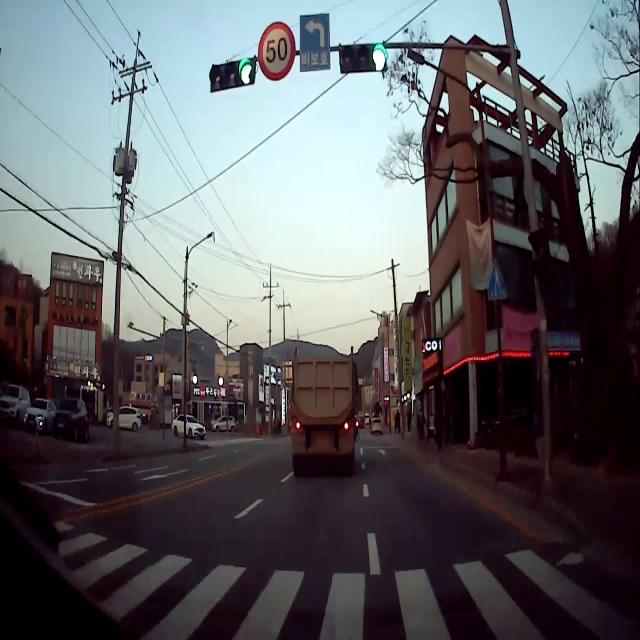Green Light: (238, 57, 256, 86), (370, 42, 388, 70)
